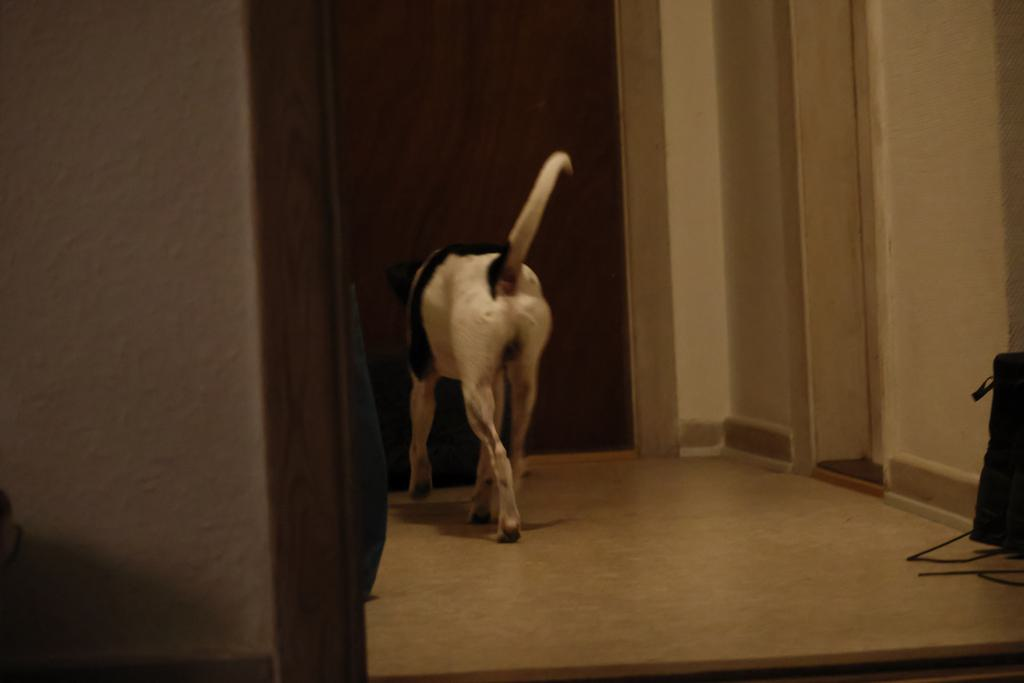Dog: (375, 124, 590, 559)
